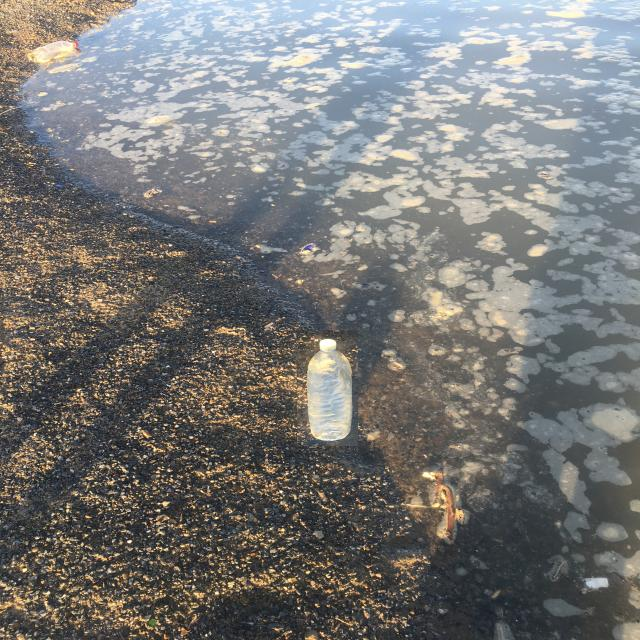Plastic bottle: (297, 331, 358, 446), (31, 38, 83, 64)
Wood: (428, 466, 461, 547)
